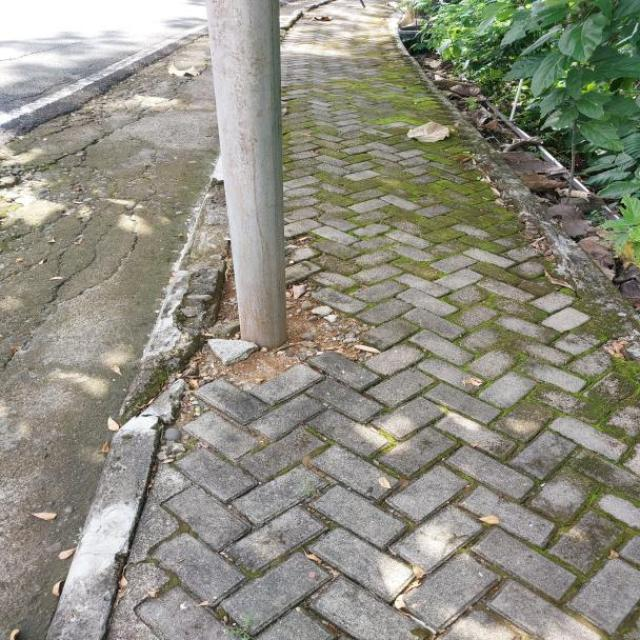electric pole ahead at: (208, 0, 318, 355)
